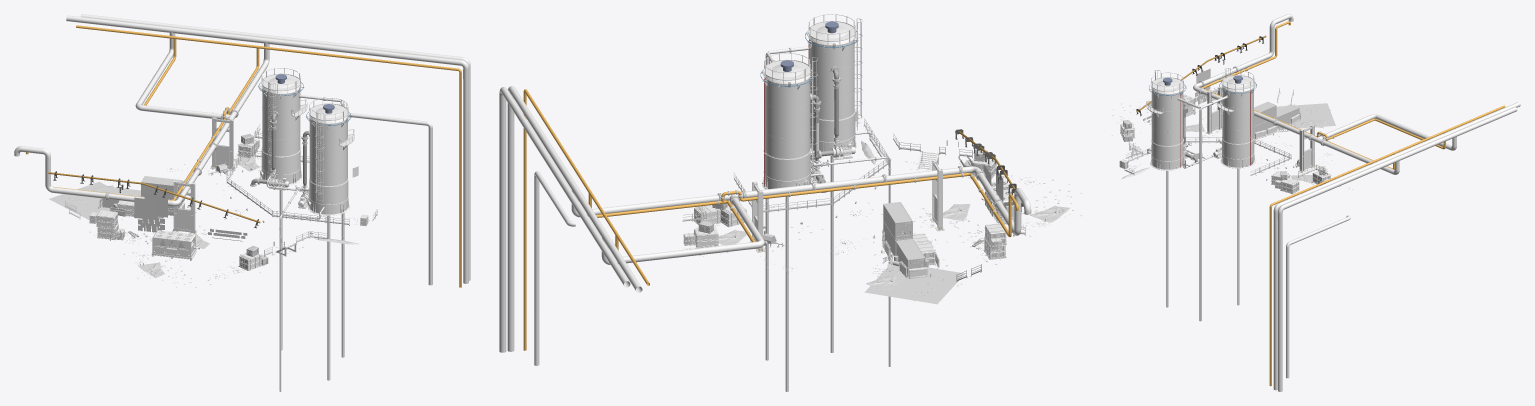
Rendered from cell_171_108.fbx.
3 views of the same model, side by side, from view 1: azimuth 30°, elevation 25°; view 2: azimuth 150°, elevation 25°; view 3: azimuth 270°, elevation 25° (orthographic). The views are drawn at different scales.
Visible parts, largest first — view 1: SM_I_RoadFacility_Pipe_T_04A.mo, SM_I_RoadFacility_Pipe_T_07A.mo, SM_H_Industrial_Mechanical_MetalSilo_03d.mo.014, SM_H_Industrial_Mechanical_MetalSilo_03d.mo.011, SM_I_RoadFacility_Pipe_T_04A_Decal.mo, SM_H_FutureTech_Electrical_BigConditioners_01.mo.067, SM_Decal_Puddle_01A.mo.003, SM_H_WalkwaySystem_MetalSupport_03.mo.004, SM_H_Building_FutureTech_Test_01_ExterWall_04.mo.003, SM_H_WalkwaySystem_MetalSupport_03.mo.003, SM_H_Industrial_Mechanical_MetalSilo_01B.mo.002, SM_H_Industrial_Container_02.mo.164 (+3 smaller); view 2: SM_I_RoadFacility_Pipe_T_04A.mo, SM_I_RoadFacility_Pipe_T_07A.mo, SM_H_Industrial_Mechanical_MetalSilo_03d.mo.011, SM_H_Industrial_Mechanical_MetalSilo_03d.mo.014, SM_Decal_Puddle_01A.mo.003, SM_I_RoadFacility_Pipe_T_04A_Decal.mo, SM_H_Industrial_Container_02.mo.164, SM_H_Industrial_Mechanical_MetalSilo_01B.mo.004, SM_H_Industrial_Container_02.mo.162, SM_H_Industrial_Mechanical_MetalSilo_01B.mo.002, SM_H_WalkwaySystem_MetalSupport_03.mo.004, SM_I_RoadFacility_Pipe_T_07A_Decal.mo (+2 smaller); view 3: SM_I_RoadFacility_Pipe_T_04A.mo, SM_I_RoadFacility_Pipe_T_07A.mo, SM_H_Industrial_Mechanical_MetalSilo_03d.mo.014, SM_H_Industrial_Mechanical_MetalSilo_03d.mo.011, SM_I_RoadFacility_Pipe_T_04A_Decal.mo, SM_Decal_Puddle_01A.mo.003, SM_H_WalkwaySystem_MetalSupport_03.mo.003, SM_H_WalkwaySystem_MetalSupport_03.mo.004, SM_H_Building_FutureTech_Test_01_ExterWall_04.mo.003, SM_I_RoadFacility_Pipe_T_07A_Decal.mo.
Boxes of the visible parts, left/top/right/bottom form: SM_I_RoadFacility_Pipe_T_04A.mo: left=14, top=14, right=470, bottom=283; SM_I_RoadFacility_Pipe_T_07A.mo: left=26, top=25, right=461, bottom=391; SM_H_Industrial_Mechanical_MetalSilo_03d.mo.014: left=306, top=98, right=354, bottom=215; SM_H_Industrial_Mechanical_MetalSilo_03d.mo.011: left=258, top=68, right=307, bottom=185; SM_I_RoadFacility_Pipe_T_04A_Decal.mo: left=16, top=18, right=470, bottom=200; SM_H_FutureTech_Electrical_BigConditioners_01.mo.067: left=151, top=230, right=196, bottom=260; SM_Decal_Puddle_01A.mo.003: left=49, top=181, right=110, bottom=220; SM_H_WalkwaySystem_MetalSupport_03.mo.004: left=172, top=180, right=196, bottom=234; SM_H_Building_FutureTech_Test_01_ExterWall_04.mo.003: left=48, top=171, right=260, bottom=228; SM_H_WalkwaySystem_MetalSupport_03.mo.003: left=210, top=117, right=234, bottom=170; SM_H_Industrial_Mechanical_MetalSilo_01B.mo.002: left=250, top=111, right=289, bottom=190; SM_H_Industrial_Container_02.mo.164: left=141, top=176, right=182, bottom=199; SM_I_RoadFacility_Pipe_T_04A.mo: left=499, top=86, right=1031, bottom=352; SM_I_RoadFacility_Pipe_T_07A.mo: left=523, top=46, right=1018, bottom=391; SM_H_Industrial_Mechanical_MetalSilo_03d.mo.011: left=760, top=53, right=817, bottom=189; SM_H_Industrial_Mechanical_MetalSilo_03d.mo.014: left=805, top=14, right=862, bottom=155; SM_Decal_Puddle_01A.mo.003: left=864, top=261, right=964, bottom=304; SM_I_RoadFacility_Pipe_T_04A_Decal.mo: left=499, top=87, right=1030, bottom=268; SM_H_Industrial_Container_02.mo.164: left=883, top=202, right=912, bottom=240; SM_H_Industrial_Mechanical_MetalSilo_01B.mo.004: left=810, top=66, right=855, bottom=162; SM_H_Industrial_Container_02.mo.162: left=895, top=239, right=925, bottom=277; SM_H_Industrial_Mechanical_MetalSilo_01B.mo.002: left=810, top=93, right=829, bottom=192; SM_H_WalkwaySystem_MetalSupport_03.mo.004: left=930, top=160, right=944, bottom=230; SM_I_RoadFacility_Pipe_T_07A_Decal.mo: left=524, top=89, right=1017, bottom=245; SM_I_RoadFacility_Pipe_T_04A.mo: left=1193, top=15, right=1520, bottom=391; SM_I_RoadFacility_Pipe_T_07A.mo: left=1147, top=21, right=1505, bottom=386; SM_H_Industrial_Mechanical_MetalSilo_03d.mo.014: left=1146, top=70, right=1186, bottom=170; SM_H_Industrial_Mechanical_MetalSilo_03d.mo.011: left=1217, top=68, right=1256, bottom=168; SM_I_RoadFacility_Pipe_T_04A_Decal.mo: left=1198, top=14, right=1493, bottom=221; SM_Decal_Puddle_01A.mo.003: left=1276, top=103, right=1335, bottom=128; SM_H_WalkwaySystem_MetalSupport_03.mo.003: left=1298, top=125, right=1315, bottom=172; SM_H_WalkwaySystem_MetalSupport_03.mo.004: left=1205, top=86, right=1222, bottom=134; SM_H_Building_FutureTech_Test_01_ExterWall_04.mo.003: left=1136, top=35, right=1266, bottom=116; SM_I_RoadFacility_Pipe_T_07A_Decal.mo: left=1186, top=21, right=1453, bottom=205.
Size of the model in its own units: 81.39 by 47.8 by 77.24.
